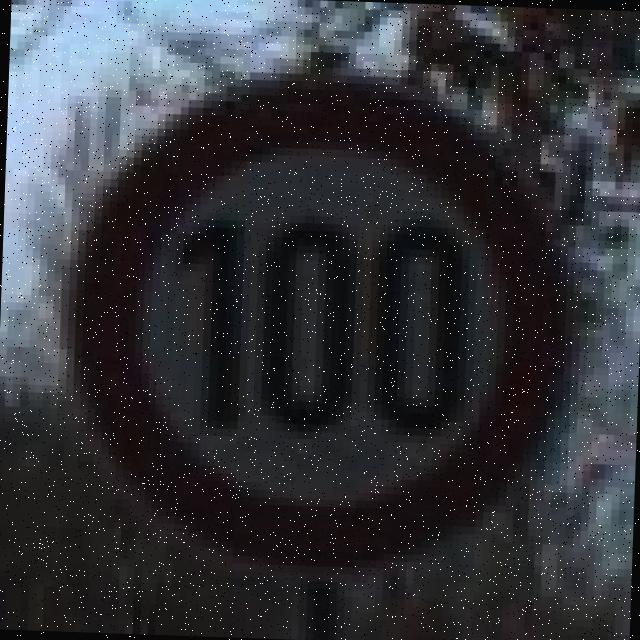Ograniczenie predkosci do 100: (44, 50, 596, 597)
